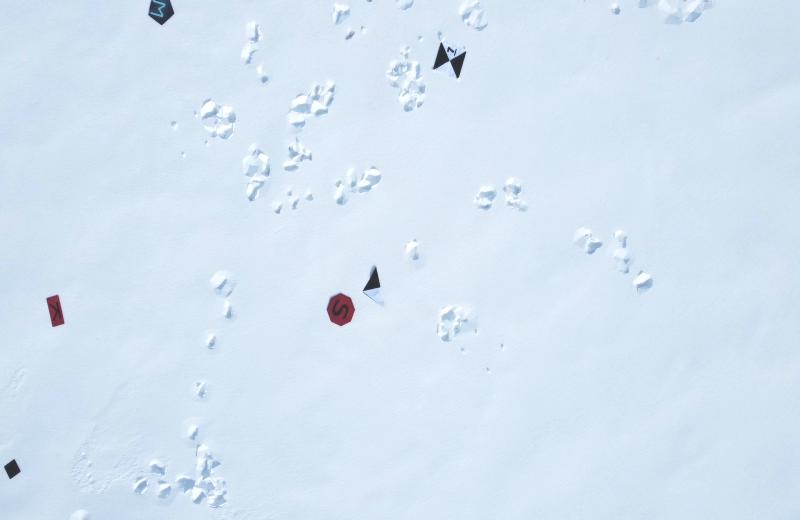Octagon: (323, 286, 358, 331)
Pentagon: (143, 0, 180, 41)
Rectangle: (40, 287, 72, 333)
Square: (1, 453, 27, 483)
